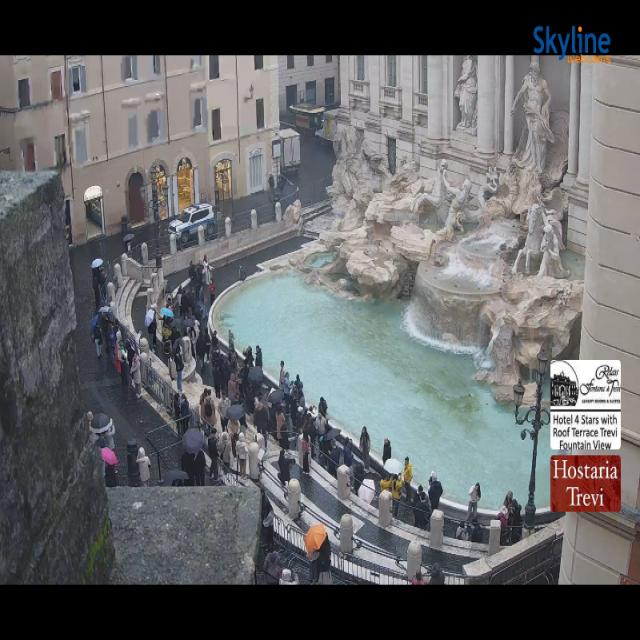person: (380, 475, 402, 517), (261, 489, 274, 547), (265, 403, 281, 450), (414, 486, 431, 529), (264, 544, 282, 584), (318, 535, 332, 585), (303, 412, 318, 457), (254, 395, 268, 442), (220, 352, 235, 392), (172, 337, 183, 391), (208, 429, 219, 483), (428, 471, 443, 510), (277, 406, 289, 450), (278, 450, 293, 485), (467, 483, 480, 522), (137, 448, 150, 487), (282, 372, 294, 414), (236, 432, 247, 477), (219, 390, 231, 431), (391, 476, 403, 517), (511, 499, 522, 543), (319, 437, 333, 471), (181, 451, 195, 485), (92, 268, 103, 311), (119, 343, 129, 390), (360, 426, 370, 472), (202, 390, 215, 425), (91, 316, 102, 357), (131, 353, 141, 398), (290, 381, 300, 426), (328, 440, 340, 477), (294, 389, 305, 429), (240, 359, 250, 403), (196, 332, 206, 375), (180, 393, 190, 436), (126, 335, 139, 368), (219, 432, 231, 467), (403, 457, 412, 502), (212, 358, 222, 398), (194, 449, 205, 485), (307, 551, 319, 584), (497, 506, 508, 541), (229, 420, 239, 457), (100, 313, 110, 350), (245, 380, 255, 416), (353, 463, 364, 494), (161, 317, 171, 351), (428, 563, 444, 584), (185, 328, 196, 358), (302, 433, 310, 474), (107, 323, 115, 364), (455, 522, 472, 541), (203, 323, 211, 363), (184, 288, 195, 317), (179, 285, 188, 319), (148, 312, 156, 350), (303, 411, 313, 441), (343, 439, 352, 472), (504, 491, 512, 527), (105, 464, 117, 488), (471, 518, 483, 542), (276, 409, 285, 441), (228, 373, 239, 399), (280, 569, 299, 584), (228, 351, 238, 378), (196, 263, 203, 301), (315, 412, 326, 436), (115, 331, 121, 374), (412, 485, 423, 508), (199, 389, 207, 419), (244, 345, 254, 368), (203, 255, 210, 285), (383, 438, 391, 463), (504, 491, 512, 516), (173, 393, 180, 421), (188, 260, 196, 284), (318, 397, 327, 418), (255, 345, 263, 368), (277, 173, 285, 196), (209, 277, 215, 304), (175, 285, 182, 308), (412, 570, 423, 584), (239, 413, 247, 432), (294, 375, 303, 391), (212, 330, 219, 350), (228, 329, 234, 352), (268, 173, 275, 192), (165, 295, 173, 310), (280, 360, 284, 389), (240, 265, 246, 281), (87, 411, 93, 426)
